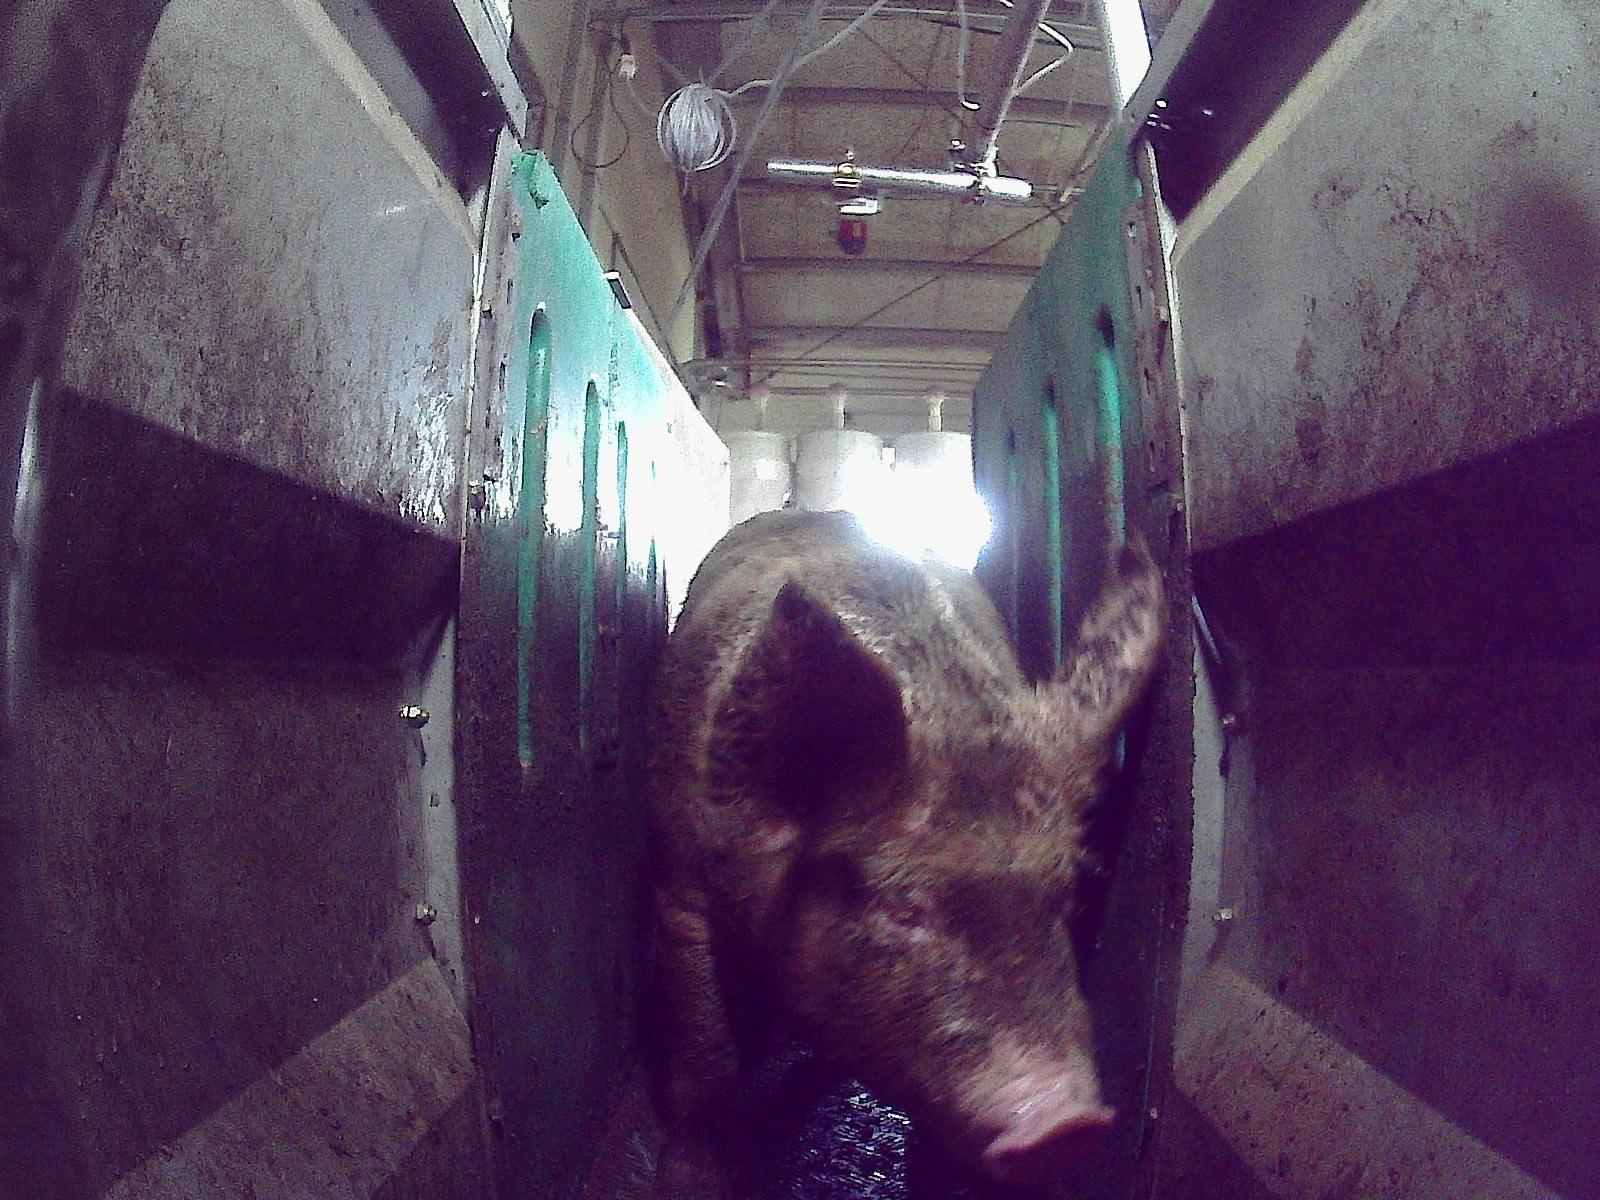Face: (769, 690, 1120, 1183)
